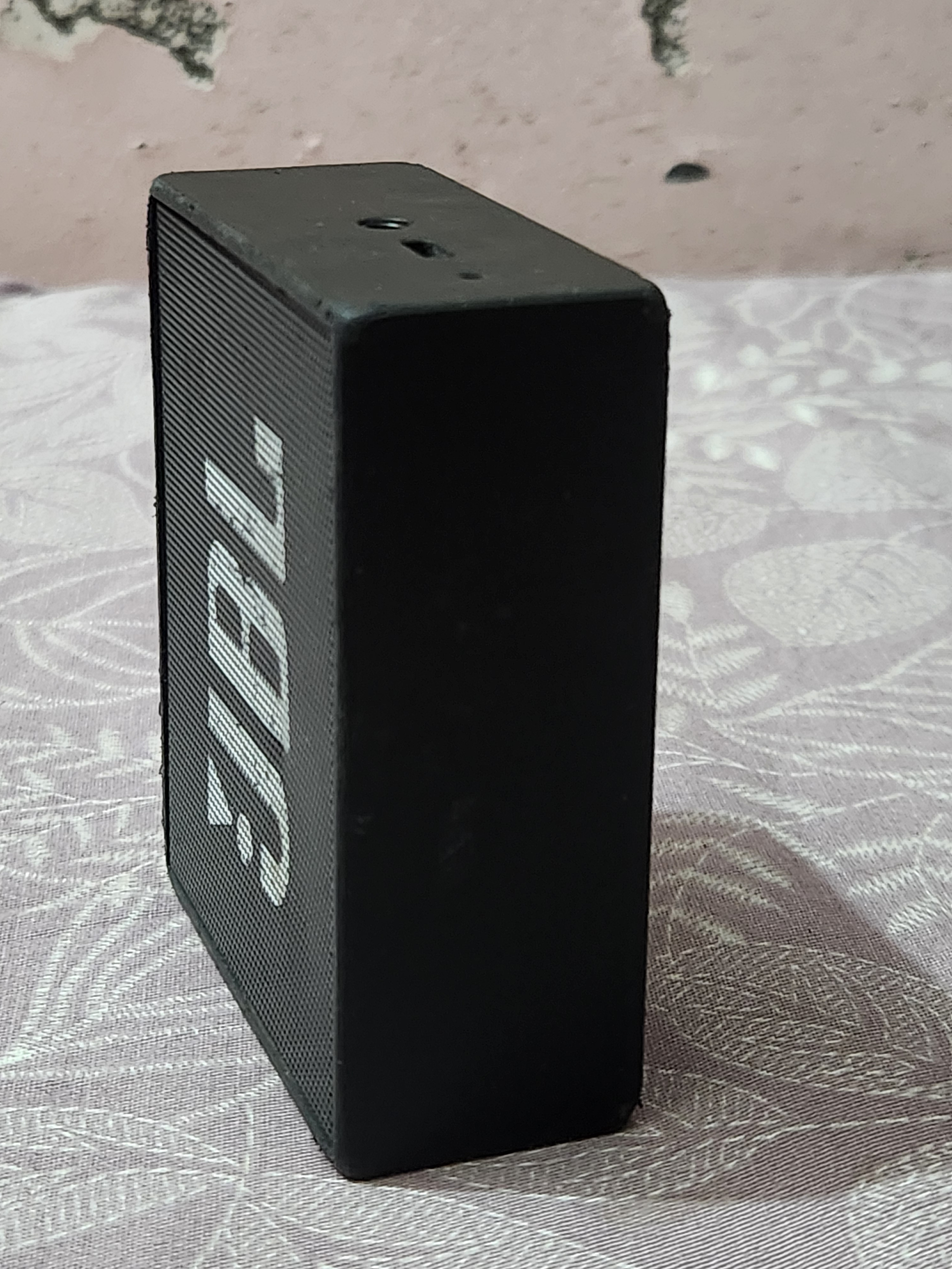speaker: (136, 156, 679, 1175)
